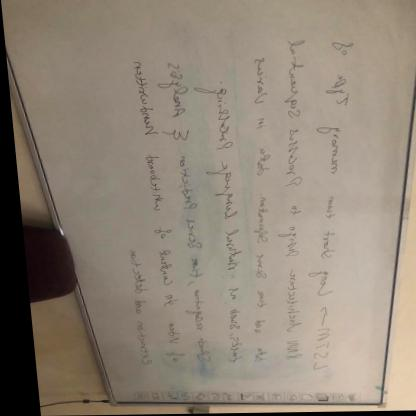Handwritten text: (283, 25, 366, 381), (120, 47, 182, 372), (154, 55, 212, 376), (197, 72, 250, 373), (269, 37, 307, 369), (238, 47, 267, 370), (114, 246, 148, 374)
Whiteboard: (0, 0, 415, 409)
